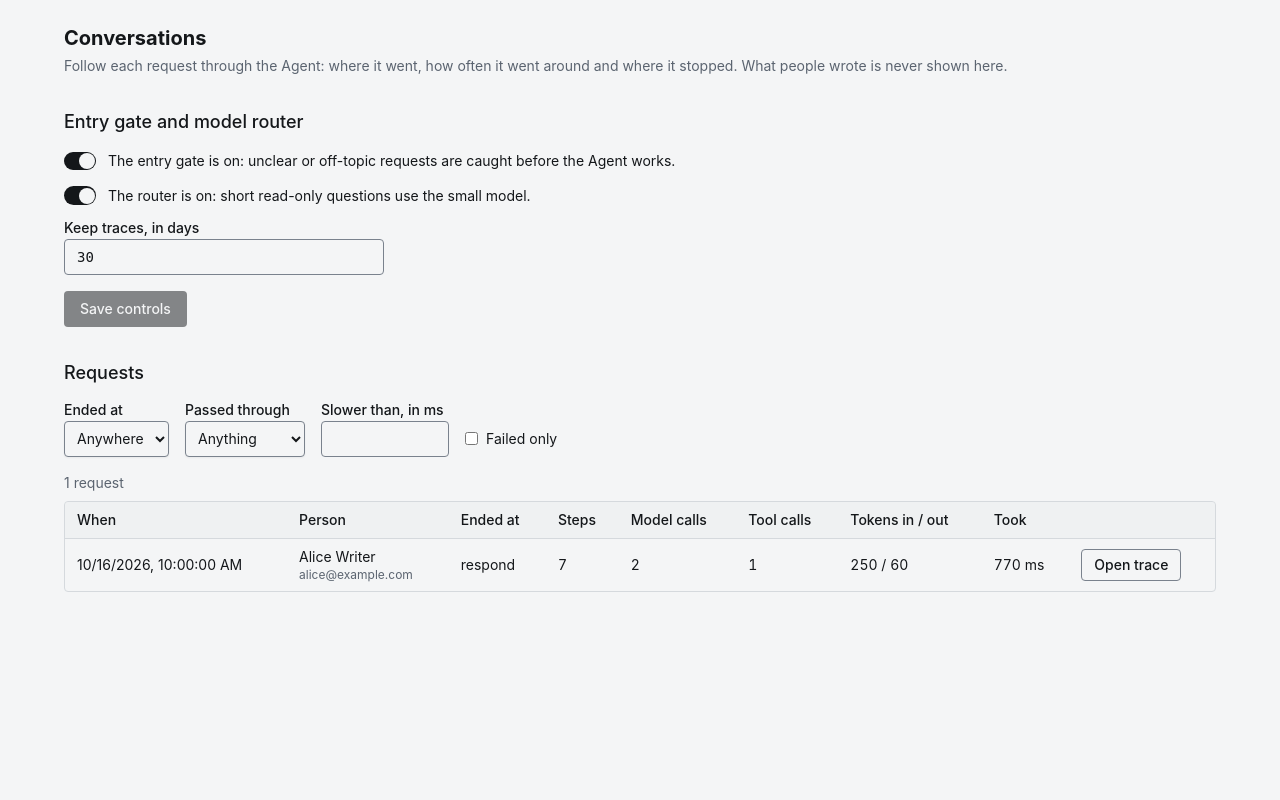
Test case: draws the path a request took through the decision graph and marks the places it went around
The image size is (1280, 800).
Click the button "Open trace": [1131, 565] box [1081,549,1181,581]
(page scrolled)
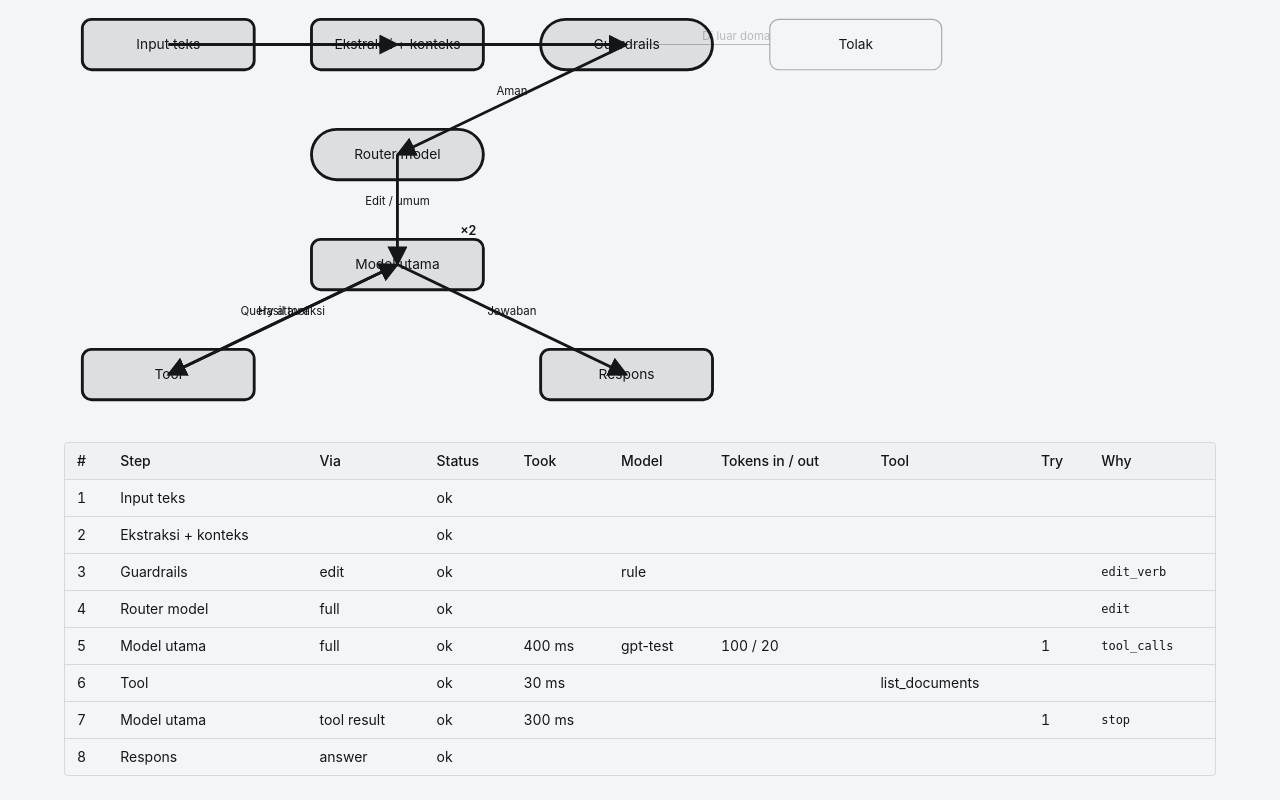
Expected: the picture named "Decision graph" is shown, [64,1,960,418]
Expected: the text "list_documents" is shown, [868,664,1029,701]
Expected: the text "edit_verb" is shown, [1089,553,1215,590]
